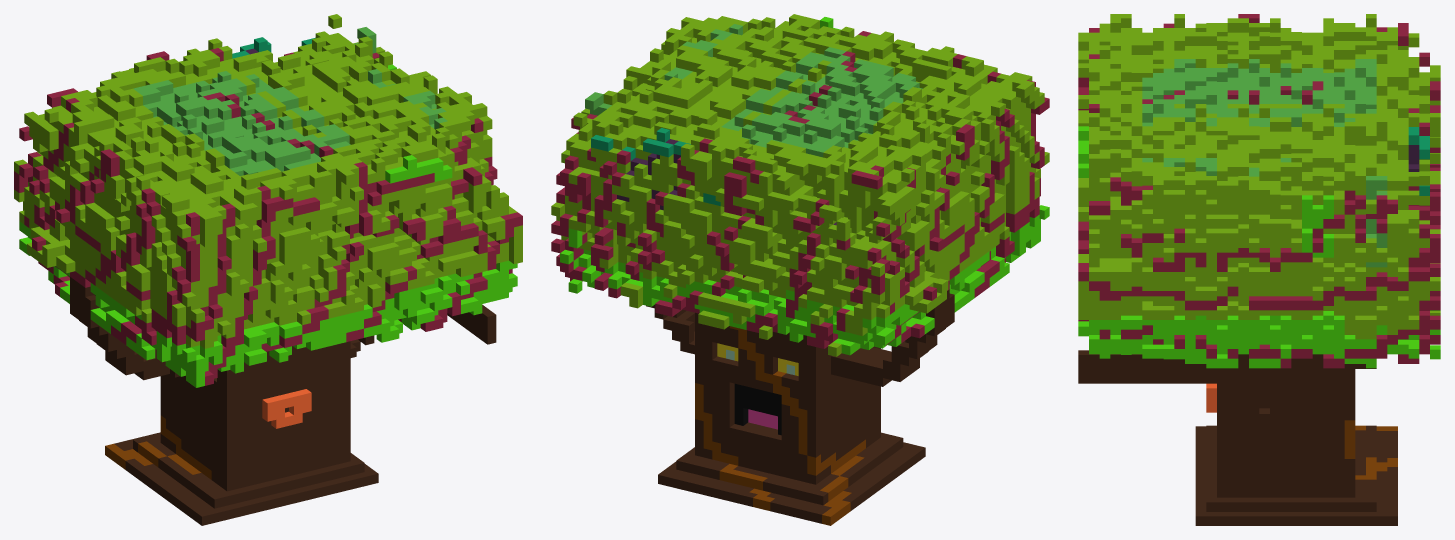
The model's file is Sietecueros_Karoll_Alexandra_Duran_Vásquez_fase_4.obj.
The picture shows the model from 3 angles, left to right: view 1: azimuth 30°, elevation 25°; view 2: azimuth 150°, elevation 25°; view 3: azimuth 270°, elevation 25°; orthographic projection. The views are drawn at different scales.
Visible parts, largest first — view 1: Sietecueros_Karoll_Alexandra_Duran_Vásquez_fase_4; view 2: Sietecueros_Karoll_Alexandra_Duran_Vásquez_fase_4; view 3: Sietecueros_Karoll_Alexandra_Duran_Vásquez_fase_4.
Boxes of the visible parts, bbox=[...] form: Sietecueros_Karoll_Alexandra_Duran_Vásquez_fase_4: bbox=[14, 14, 522, 525]; Sietecueros_Karoll_Alexandra_Duran_Vásquez_fase_4: bbox=[551, 14, 1049, 525]; Sietecueros_Karoll_Alexandra_Duran_Vásquez_fase_4: bbox=[1078, 14, 1440, 525].
Bounding box in the file's own units: 40 × 40 × 34.
